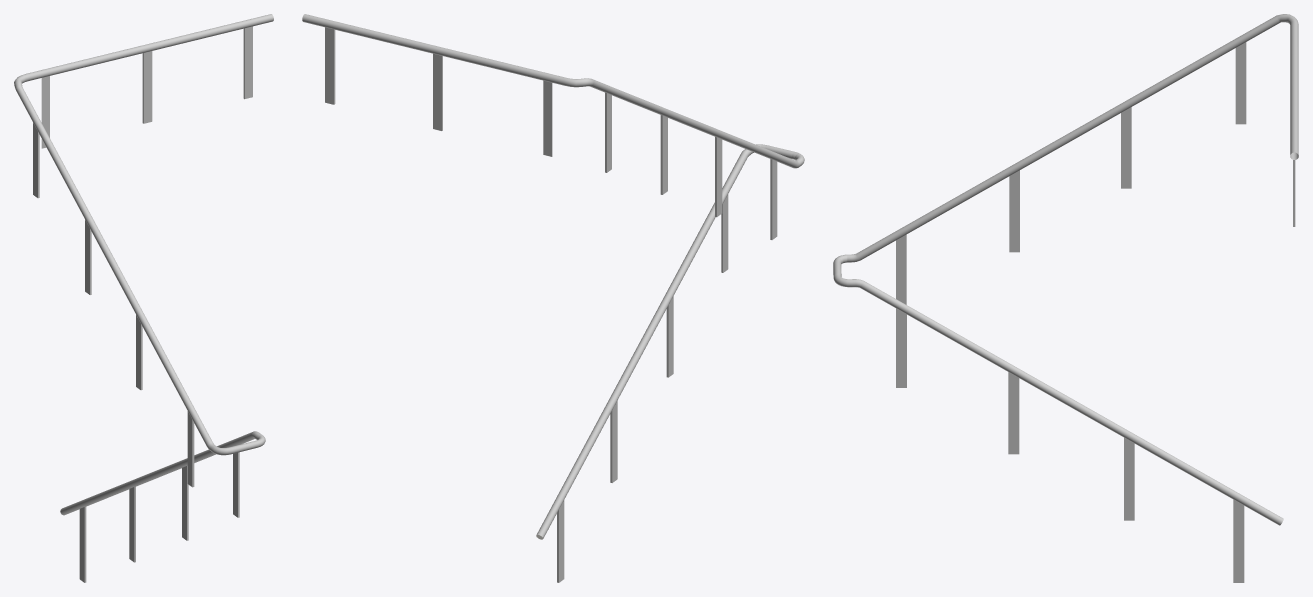
Rendered from railing.fbx.
3 renders of one model, left to right at view 1: azimuth 30°, elevation 25°; view 2: azimuth 150°, elevation 25°; view 3: azimuth 270°, elevation 25°, orthographic. The views are drawn at different scales.
Parts seen in each view (by area): view 1: pCylinder44, pCube77, pCube78, pCube57, pCube61, pCube76, pCube58, pCube59, pCube62, pCube64, pCube63, pCube60; view 2: pCylinder44, pCube78, pCube77, pCube76; view 3: pCylinder44, pCube57, pCube59, pCube64, pCube58, pCube62, pCube63, pCube60, pCube61.
Part boxes in pixels (box(x1,y1,x2,y2)): pCylinder44: box(14, 14, 273, 515); pCube77: box(142, 51, 152, 123); pCube78: box(243, 26, 252, 99); pCube57: box(79, 507, 86, 582); pCube61: box(187, 411, 194, 487); pCube76: box(41, 76, 49, 148); pCube58: box(129, 487, 135, 562); pCube59: box(182, 466, 188, 540); pCube62: box(136, 315, 142, 390); pCube64: box(33, 123, 39, 198); pCube63: box(85, 220, 91, 294); pCube60: box(233, 452, 239, 517); pCylinder44: box(302, 14, 804, 539); pCube78: box(325, 27, 335, 104); pCube77: box(433, 53, 442, 130); pCube76: box(543, 80, 552, 156); pCylinder44: box(833, 14, 1298, 525); pCube57: box(1233, 499, 1244, 582); pCube59: box(1008, 372, 1019, 454); pCube64: box(1235, 42, 1246, 124); pCube58: box(1124, 437, 1134, 520); pCube62: box(1009, 170, 1019, 252); pCube63: box(1121, 107, 1131, 188); pCube60: box(896, 308, 906, 387); pCube61: box(896, 234, 906, 304).
Bounding box in the file's own units: 3.89 × 7.01 × 5.43.
Materials: 1 (1 with a texture image).
